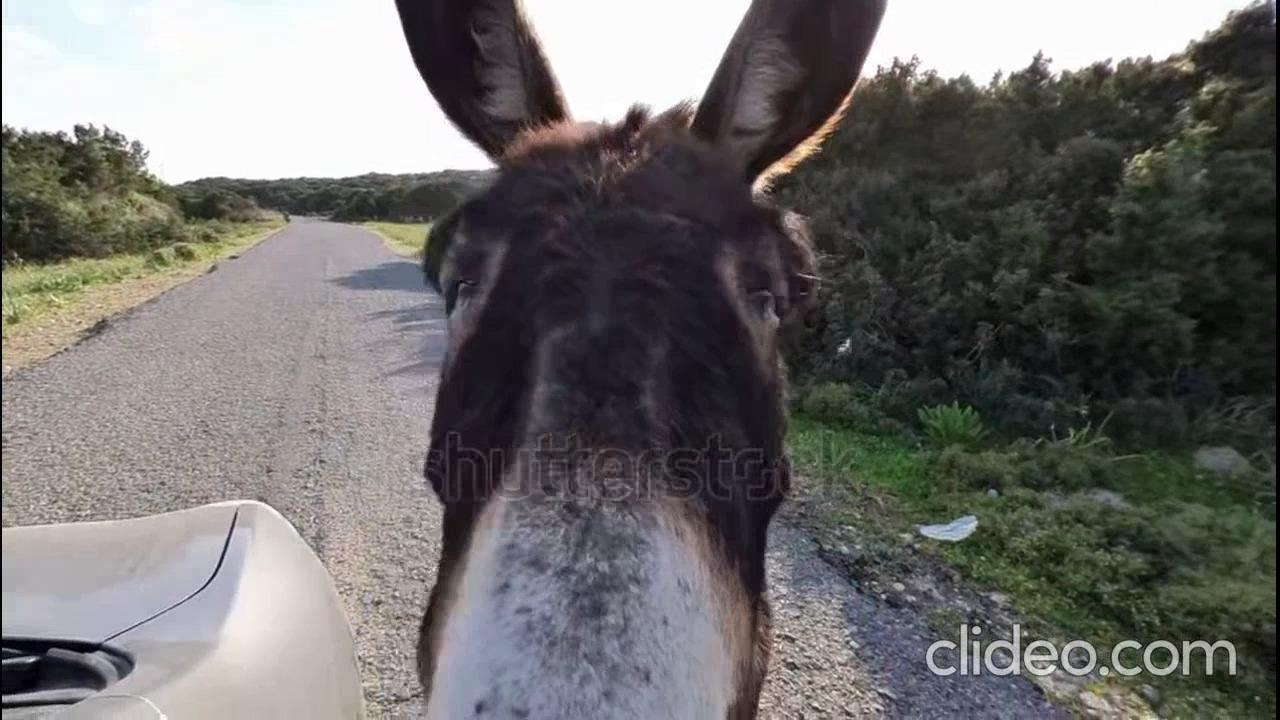Donkey: (380, 0, 887, 720)
